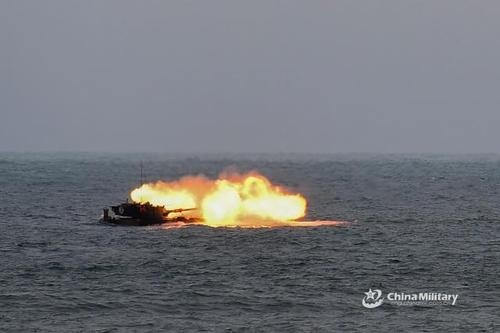fire: (128, 166, 313, 229)
